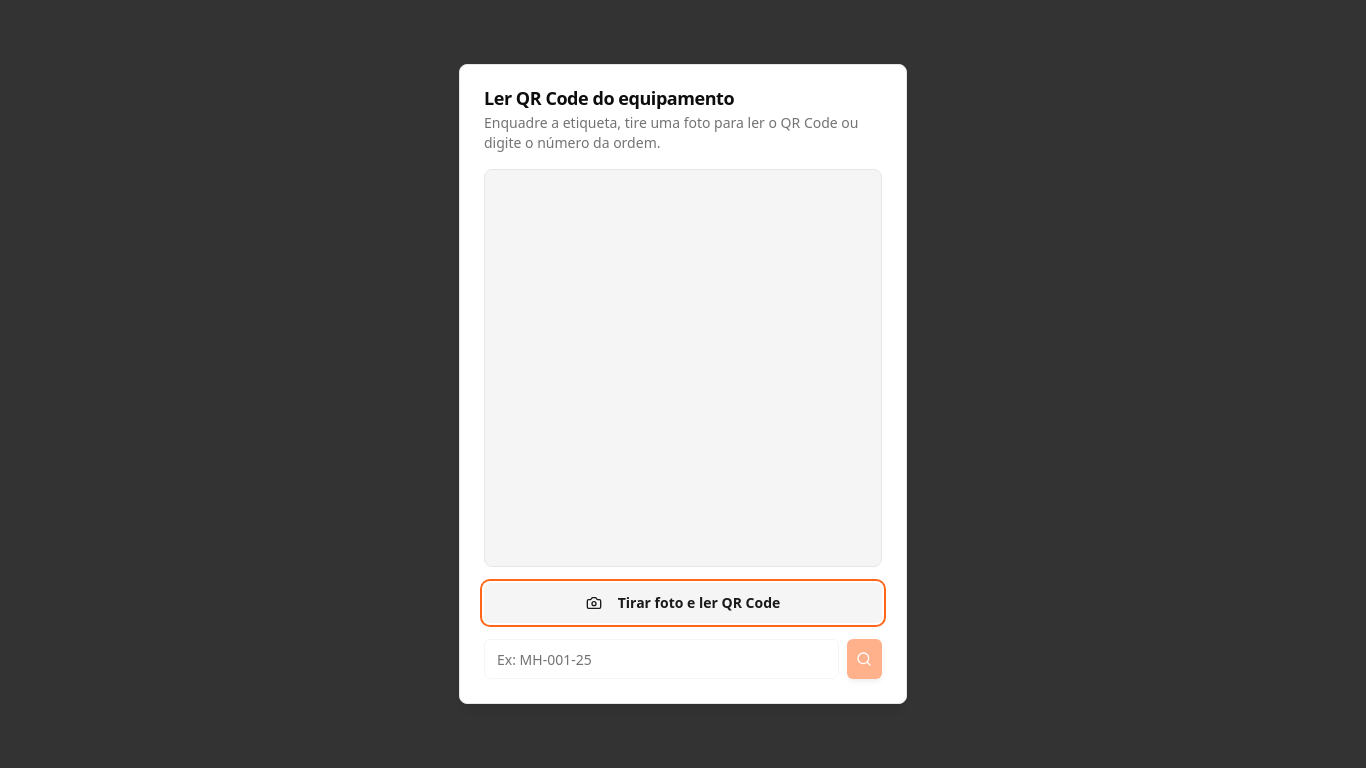
it: ScanQRCodeModal photo capture › reads the captured photo and opens the identified order
The width and height of the screenshot is (1366, 768).
Click the button "Tirar foto e ler QR Code" at coordinates (683, 603), box 484,583 -> 882,623
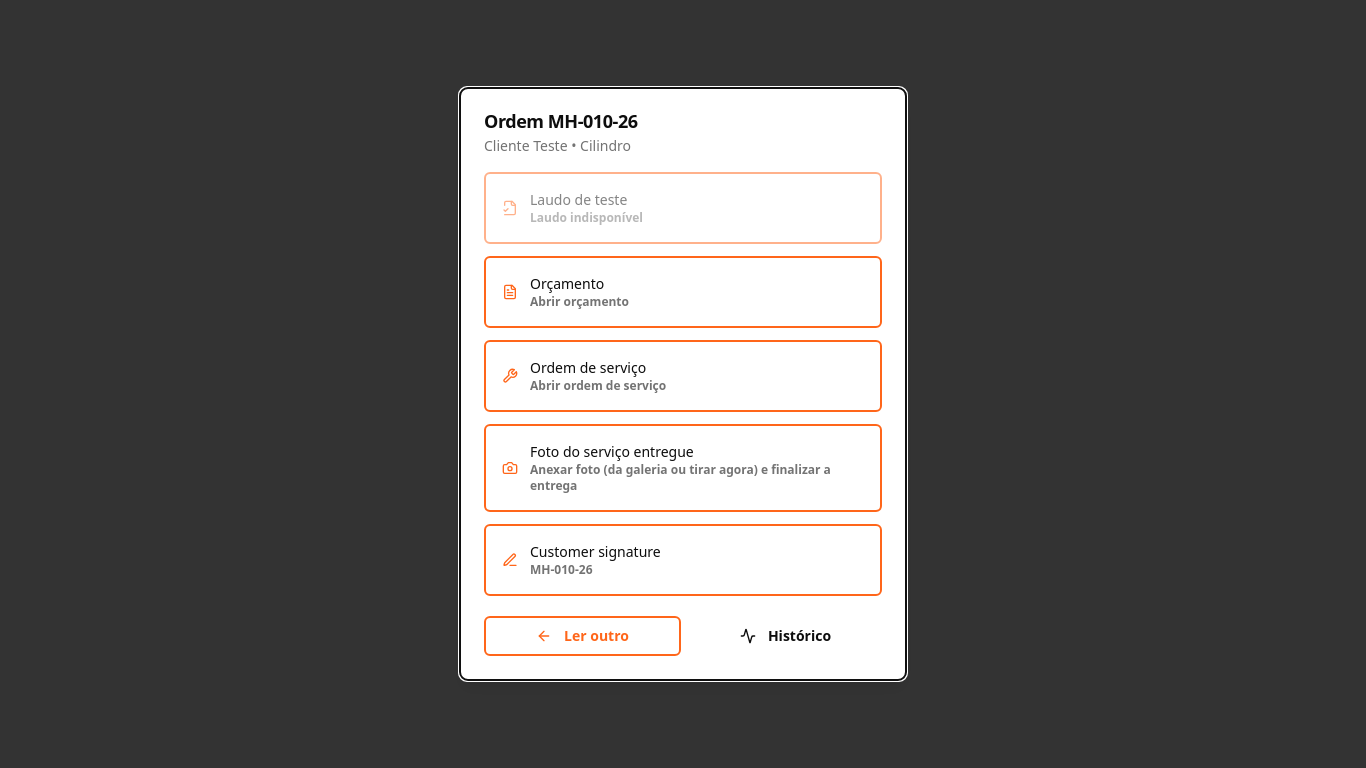
Expected: the heading "Ordem MH-010-26" is shown, 484,109 -> 638,133
Expected: the text "Cliente Teste • Cilindro" is shown, 484,136 -> 631,155
